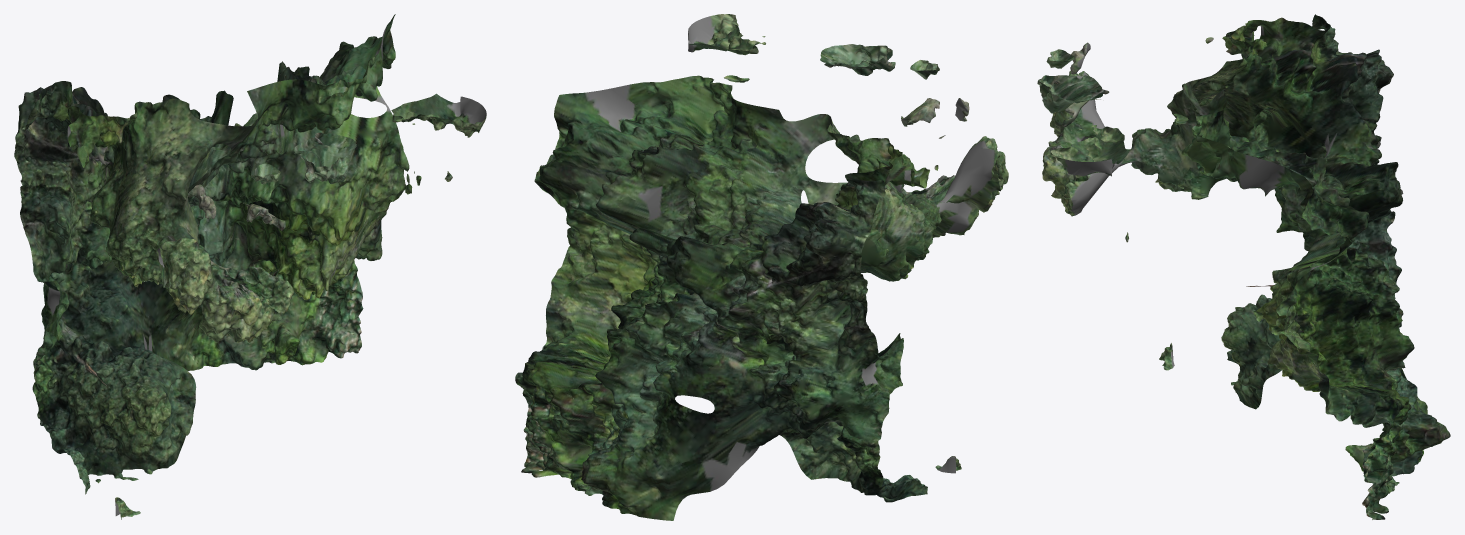
File: Tile_+023_+018.fbx
3 renders of one model, left to right at view 1: azimuth 30°, elevation 25°; view 2: azimuth 150°, elevation 25°; view 3: azimuth 270°, elevation 25°, orthographic. The views are drawn at different scales.
Visible parts, largest first — view 1: DefaultName; view 2: DefaultName; view 3: DefaultName.
Part boxes in pixels (box(x1,y1,x2,y2)): DefaultName: box(14, 14, 486, 519); DefaultName: box(515, 14, 1008, 520); DefaultName: box(1037, 14, 1450, 519).
Size of the model in its own units: 22.54 by 22.54 by 24.41.
